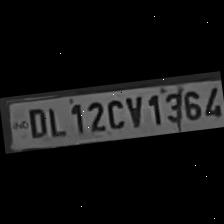1: (62, 100, 84, 136), (142, 91, 162, 127)
2: (83, 96, 106, 134)
3: (161, 88, 183, 124)
4: (198, 84, 223, 119)
6: (180, 87, 202, 122)
C: (102, 94, 124, 132)
D: (22, 104, 47, 139)
L: (43, 102, 66, 138)
V: (122, 92, 144, 130)
